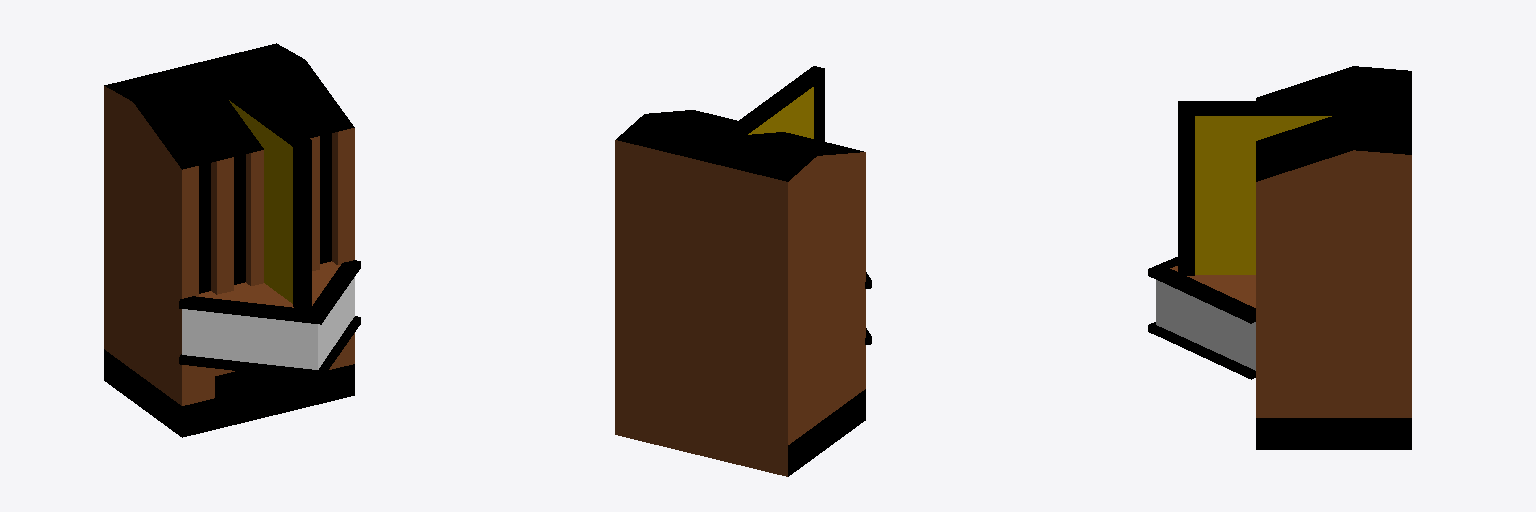
3 renders of one model, left to right at view 1: azimuth 30°, elevation 25°; view 2: azimuth 150°, elevation 25°; view 3: azimuth 270°, elevation 25°, orthographic.
Parts seen in each view (by area): view 1: buildingJazz1; view 2: buildingJazz1; view 3: buildingJazz1.
Boxes of the visible parts, <box> form: buildingJazz1: <box>104,43,360,437</box>; buildingJazz1: <box>615,66,871,476</box>; buildingJazz1: <box>1148,66,1411,449</box>.
Bounding box in the file's own units: 6.28 × 10.08 × 7.92.
1 materials, 1 textured.